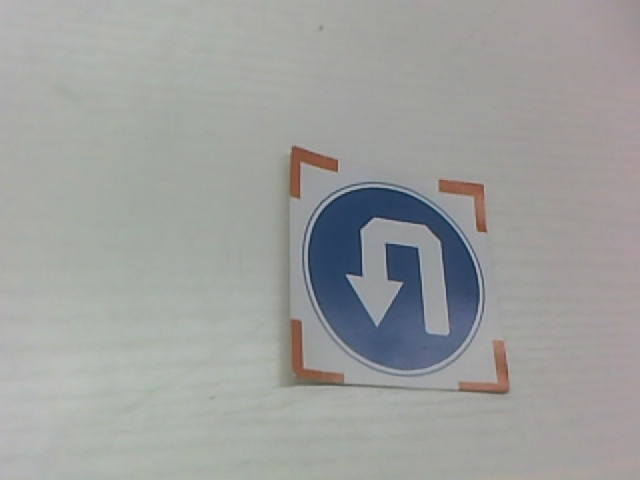turn_around: (244, 148, 505, 402)
